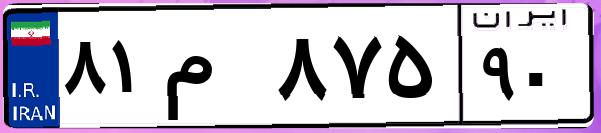0: (525, 38, 570, 115)
1: (110, 28, 158, 98)
5: (385, 28, 445, 110)
7: (330, 28, 385, 110)
8: (270, 28, 330, 110), (57, 26, 110, 100)
9: (475, 38, 525, 113)
م: (158, 20, 270, 120)
